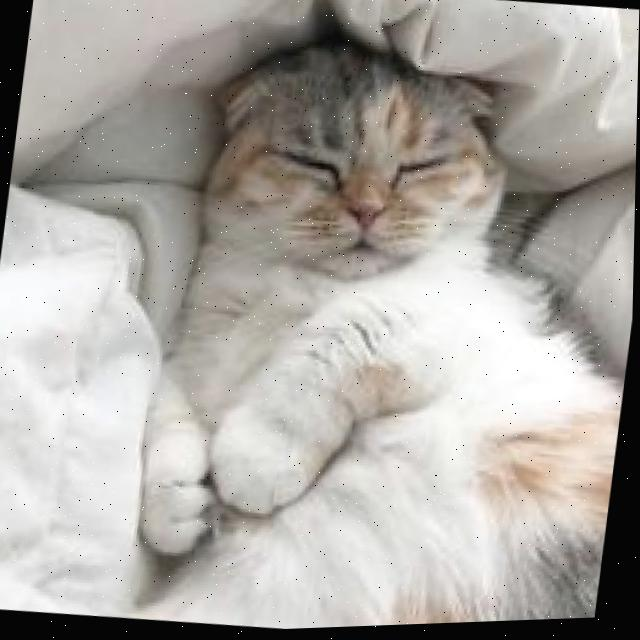Scottish Fold: (122, 14, 639, 636)
